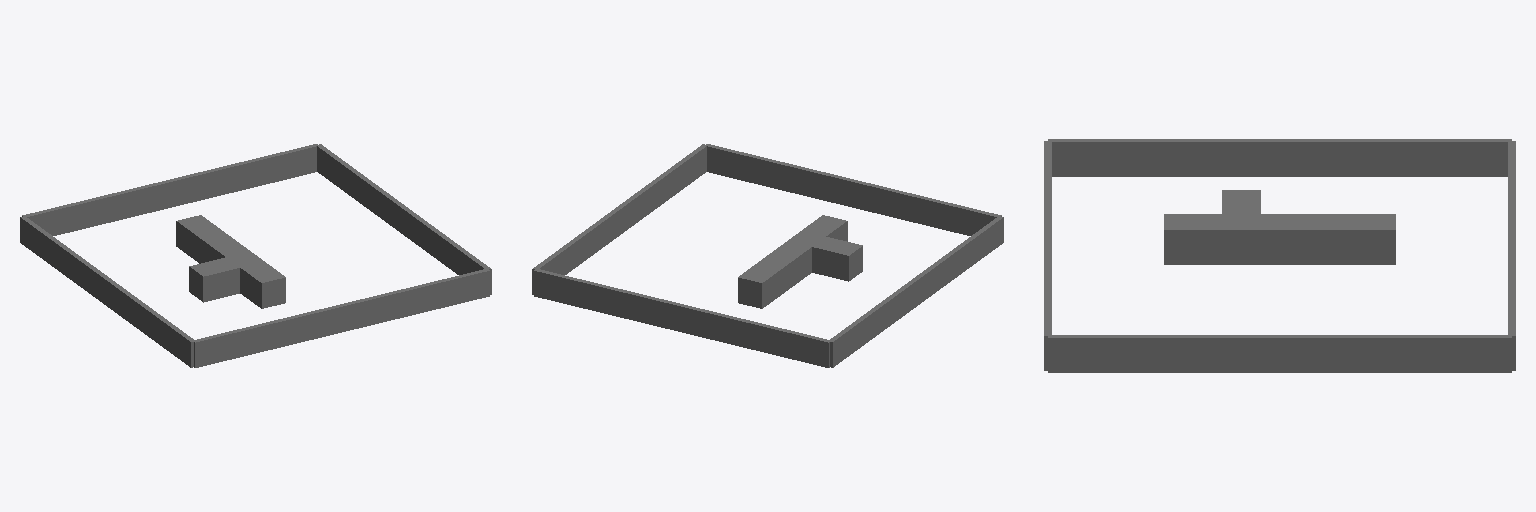
The robot description file, URDF, robot "plane":
<?xml version="0.0" ?>
<robot name="plane">
  <link name="planeLink">
  <contact>
      <lateral_friction value="1"/>
  </contact>
    <inertial>
      <origin rpy="0 0 0" xyz="0 0 0"/>
       <mass value=".0"/>
       <inertia ixx="0" ixy="0" ixz="0" iyy="0" iyz="0" izz="0"/>
    </inertial>
    <visual>
      <origin rpy="0 0 0" xyz="0 0 0"/>
      <geometry>
				<mesh filename="plane100.obj" scale="1 1 1"/>
      </geometry>
       <material name="white">
        <color rgba="1 1 1 1"/>
      </material>
    </visual>
    <collision>
      <origin rpy="0 0 0" xyz="0 0 -5"/>
      <geometry>
	 	<box size="200 200 10"/>
      </geometry>
    </collision>
  </link>

  <joint name="box_2_joint" type="fixed">
    <origin rpy="0 0 0" xyz="0 0 0.05"/>
    <parent link="planeLink"/>
    <child link="box_2"/>
  </joint>

  <link name="box_2">
  	<visual>
      <origin rpy="0 0 0" xyz="-2 -0.5 0"/>
      <geometry>
	 	<box size="1 0.5 0.5"/>
      </geometry>
      <material name="grey">
	    <color rgba="0.5 0.5 0.5 1"/>
	  </material>
    </visual>
    <collision>
      <origin rpy="0 0 0" xyz="-2 -0.5 0"/>
      <geometry>
	 	<box size="1 0.5 0.5"/>
      </geometry>
    </collision>
    <inertial>
      <mass value="1"/>
      <inertia ixx="0.0" ixy="0.0" ixz="0.0" iyy="0.0" iyz="0.0" izz="0.0"/>
    </inertial>
  </link>
  
    <joint name="box_1_joint" type="fixed">
      <origin rpy="0 0 0" xyz="0 0 0.05"/>
      <parent link="planeLink"/>
      <child link="box_1"/>
    </joint>

    <link name="box_1">
    	<visual>
        <origin rpy="0 0 0" xyz="-1.5 0 0"/>
        <geometry>
  	 	<box size="0.5 3 0.5"/>
        </geometry>
        <material name="grey">
  	    <color rgba="0.5 0.5 0.5 1"/>
  	  </material>
      </visual>
      <collision>
        <origin rpy="0 0 0" xyz="-1.5 0 0"/>
        <geometry>
  	 	<box size="0.5 3 0.5"/>
        </geometry>
      </collision>
      <inertial>
        <mass value="1"/>
        <inertia ixx="0.0" ixy="0.0" ixz="0.0" iyy="0.0" iyz="0.0" izz="0.0"/>
      </inertial>
    </link>
    
    
    <joint name="wall_1_joint" type="fixed">
      <origin rpy="0 0 0" xyz="0 0 0.05"/>
      <parent link="planeLink"/>
      <child link="wall_1"/>
    </joint>

    <link name="wall_1">
    	<visual>
        <origin rpy="0 0 0" xyz="-4 0 0"/>
        <geometry>
  	 	<box size="0.1 6 0.5"/>
        </geometry>
        <material name="grey">
  	    <color rgba="0.5 0.5 0.5 1"/>
  	  </material>
      </visual>
      <collision>
        <origin rpy="0 0 0" xyz="-4 0 0"/>
        <geometry>
  	 	<box size="0.1 6 0.5"/>
        </geometry>
      </collision>
      <inertial>
        <mass value="1"/>
        <inertia ixx="0.0" ixy="0.0" ixz="0.0" iyy="0.0" iyz="0.0" izz="0.0"/>
      </inertial>
    </link>    

    <joint name="wall_2_joint" type="fixed">
      <origin rpy="0 0 0" xyz="0 0 0.05"/>
      <parent link="planeLink"/>
      <child link="wall_2"/>
    </joint>

    <link name="wall_2">
    	<visual>
        <origin rpy="0 0 0" xyz="2 0 0"/>
        <geometry>
  	 	<box size="0.1 6 0.5"/>
        </geometry>
        <material name="grey">
  	    <color rgba="0.5 0.5 0.5 1"/>
  	  </material>
      </visual>
      <collision>
        <origin rpy="0 0 0" xyz="2 0 0"/>
        <geometry>
  	 	<box size="0.1 6 0.5"/>
        </geometry>
      </collision>
      <inertial>
        <mass value="1"/>
        <inertia ixx="0.0" ixy="0.0" ixz="0.0" iyy="0.0" iyz="0.0" izz="0.0"/>
      </inertial>
    </link>    

    <joint name="wall_3_joint" type="fixed">
      <origin rpy="0 0 0" xyz="0 0 0.05"/>
      <parent link="planeLink"/>
      <child link="wall_3"/>
    </joint>

    <link name="wall_3">
    	<visual>
        <origin rpy="0 0 0" xyz="-1 3 0"/>
        <geometry>
  	 	<box size="6 0.1 0.5"/>
        </geometry>
        <material name="grey">
  	    <color rgba="0.5 0.5 0.5 1"/>
  	  </material>
      </visual>
      <collision>
        <origin rpy="0 0 0" xyz="-1 3 0"/>
        <geometry>
  	 	<box size="6 0.1 0.5"/>
        </geometry>
      </collision>
      <inertial>
        <mass value="1"/>
        <inertia ixx="0.0" ixy="0.0" ixz="0.0" iyy="0.0" iyz="0.0" izz="0.0"/>
      </inertial>
    </link>    
    
    <joint name="wall_4_joint" type="fixed">
      <origin rpy="0 0 0" xyz="0 0 0.05"/>
      <parent link="planeLink"/>
      <child link="wall_4"/>
    </joint>

    <link name="wall_4">
    	<visual>
        <origin rpy="0 0 0" xyz="-1 -3 0"/>
        <geometry>
  	 	<box size="6 0.1 0.5"/>
        </geometry>
        <material name="grey">
  	    <color rgba="0.5 0.5 0.5 1"/>
  	  </material>
      </visual>
      <collision>
        <origin rpy="0 0 0" xyz="-1 -3 0"/>
        <geometry>
  	 	<box size="6 0.1 0.5"/>
        </geometry>
      </collision>
      <inertial>
        <mass value="1"/>
        <inertia ixx="0.0" ixy="0.0" ixz="0.0" iyy="0.0" iyz="0.0" izz="0.0"/>
      </inertial>
    </link>    
    
</robot>

--- What the picture shows (computed from the rendered views, not written in the file) ---
Views: 3 orthographic renders of the robot side by side, from view 1: azimuth 30°, elevation 25°; view 2: azimuth 150°, elevation 25°; view 3: azimuth 270°, elevation 25°.
Model plane with 7 links and 6 joints (6 fixed), rooted at planeLink, posed all joints at 0.
Visible links, largest first — view 1: wall_4, wall_3, wall_1, wall_2, box_1, box_2; view 2: wall_3, wall_4, wall_1, wall_2, box_1, box_2; view 3: wall_2, wall_1, box_1, wall_4, wall_3, box_2.
Link boxes in pixels (<box>): wall_4: <box>193,268,489,367</box>; wall_3: <box>22,144,317,235</box>; wall_1: <box>20,216,194,367</box>; wall_2: <box>317,144,491,294</box>; box_1: <box>176,215,285,308</box>; box_2: <box>189,257,239,302</box>; wall_3: <box>534,269,829,367</box>; wall_4: <box>705,144,1001,235</box>; wall_1: <box>829,216,1003,367</box>; wall_2: <box>532,144,706,294</box>; box_1: <box>738,215,847,308</box>; box_2: <box>808,237,862,281</box>; wall_2: <box>1048,335,1511,372</box>; wall_1: <box>1048,139,1511,176</box>; box_1: <box>1164,214,1395,264</box>; wall_4: <box>1044,141,1051,370</box>; wall_3: <box>1508,141,1515,370</box>; box_2: <box>1222,190,1260,221</box>.
Size in the robot's own frame: 6.1 by 6.1 by 0.5 metres.
Meshes: 1 distinct files referenced, 0 mesh visuals loaded (none loaded); not drawn: 1 (reference not matched to a file when rendering).